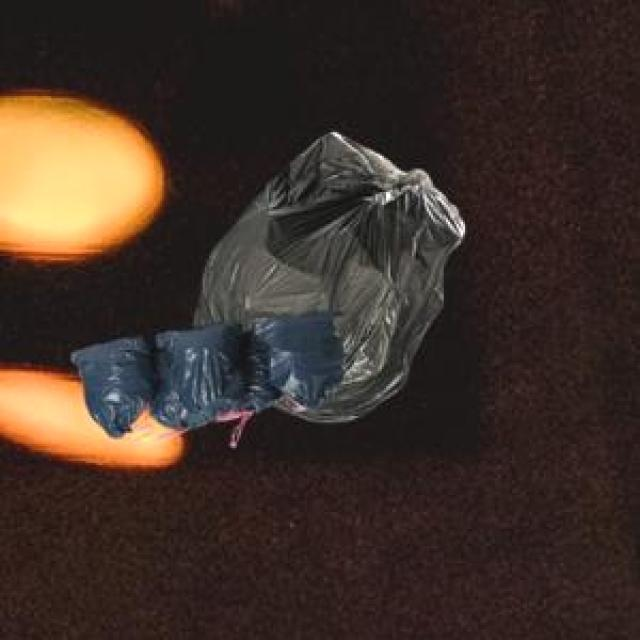Trashbag: (193, 144, 486, 418), (133, 338, 269, 426), (246, 312, 347, 418), (58, 350, 174, 432)
